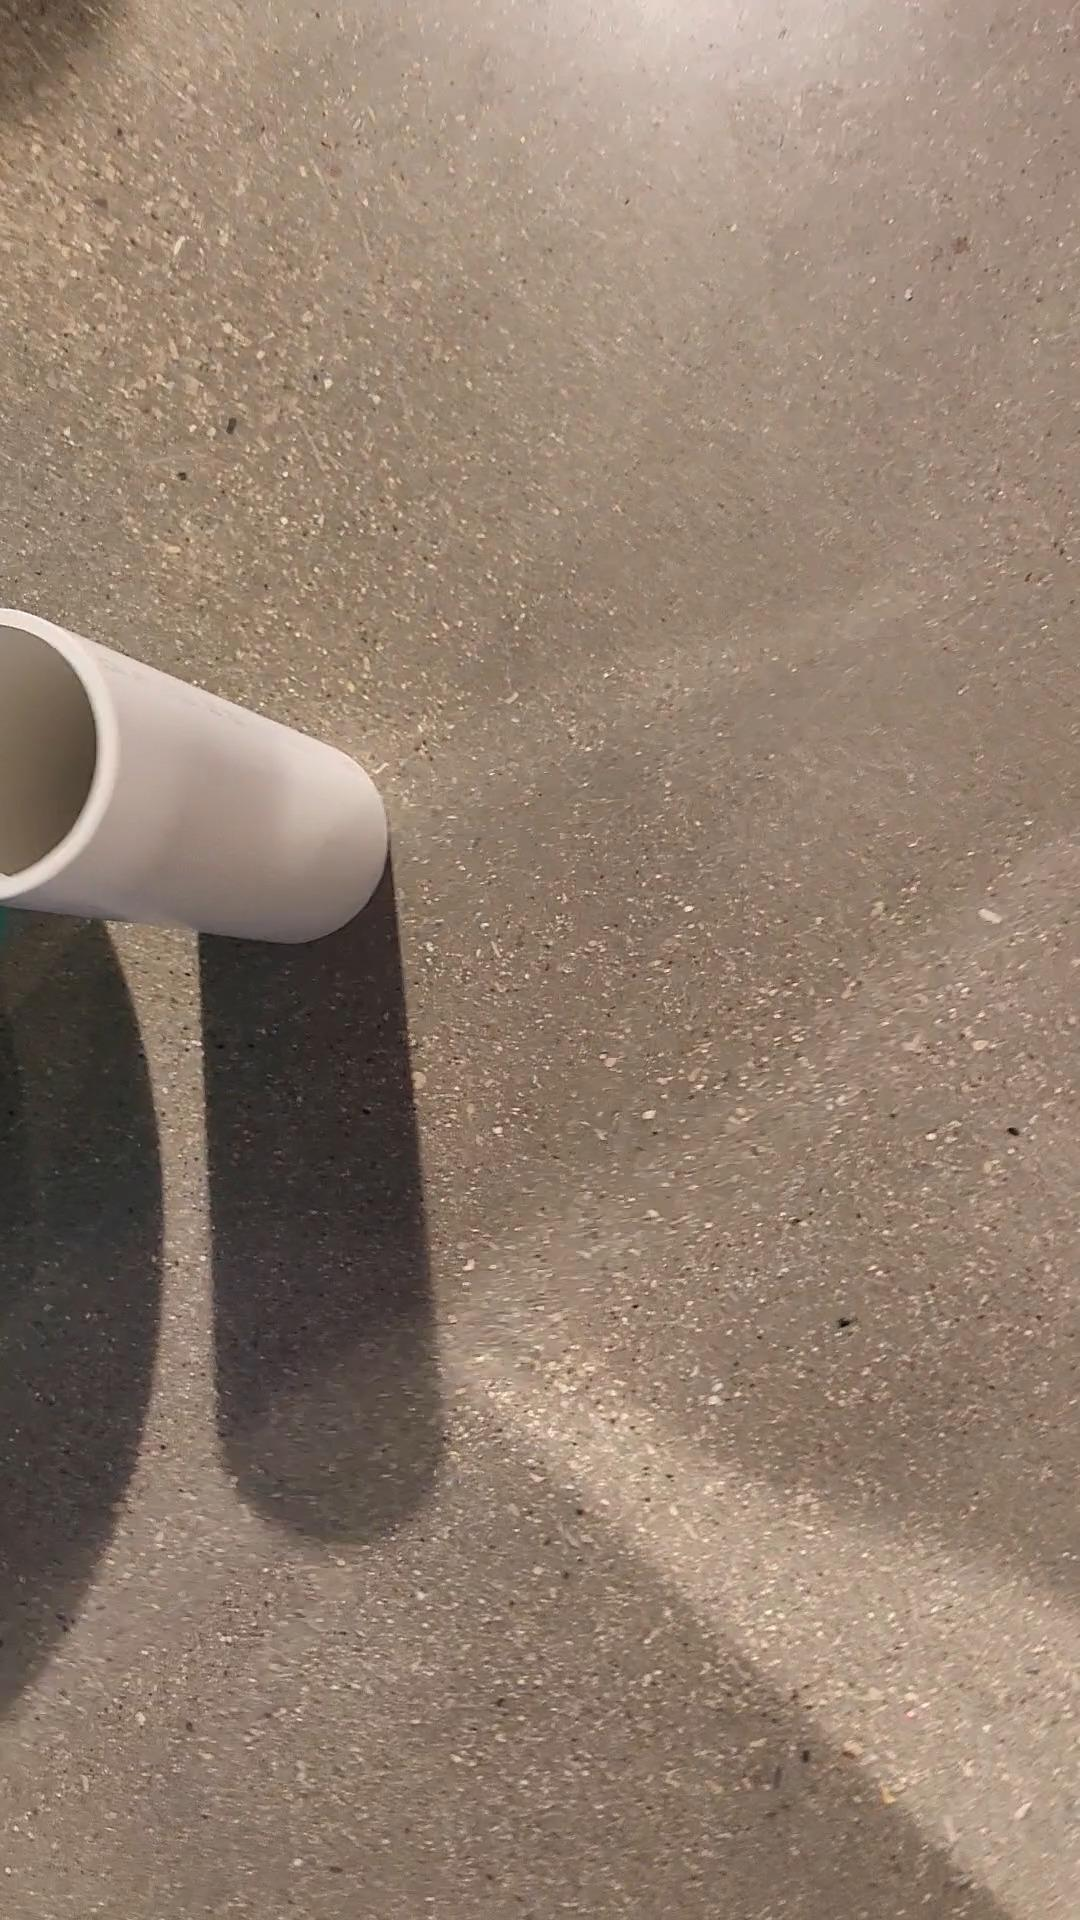coral: (0, 603, 388, 943)
